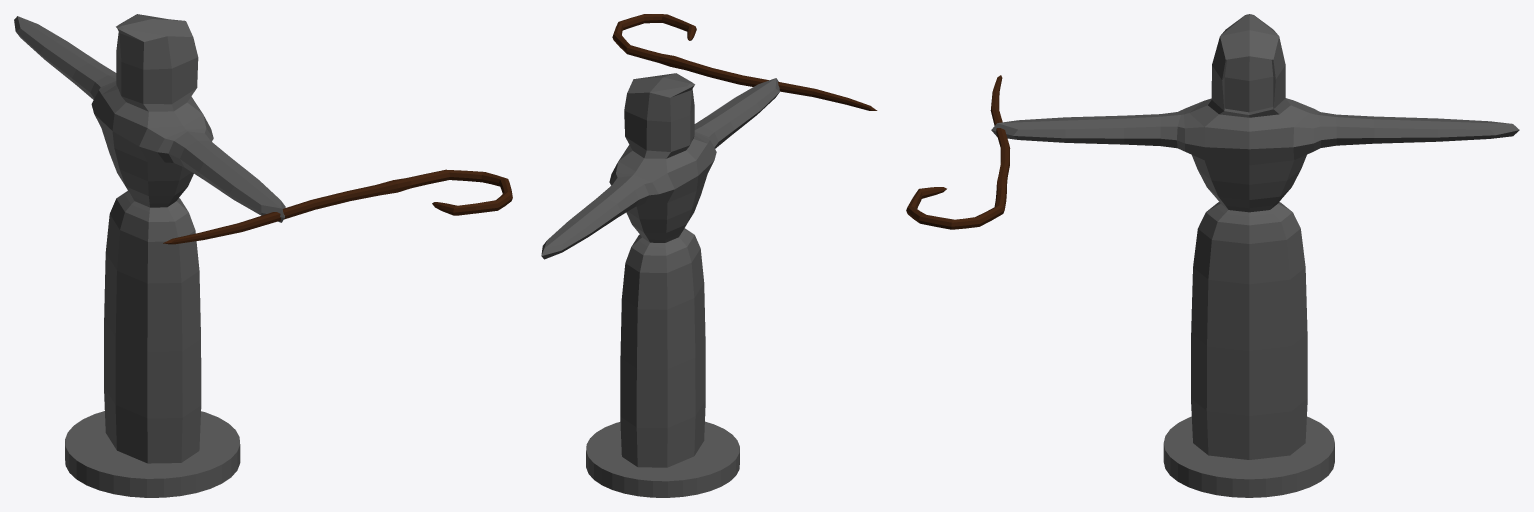
The model's file is beastmaster.fbx.
The picture shows the model from 3 angles, left to right: view 1: azimuth 30°, elevation 25°; view 2: azimuth 150°, elevation 25°; view 3: azimuth 270°, elevation 25°; orthographic projection. The views are drawn at different scales.
Visible parts, largest first — view 1: Statue, Staff; view 2: Statue, Staff; view 3: Statue, Staff.
Boxes of the visible parts, left/top/right/bottom form: Statue: left=14, top=14, right=285, bottom=497; Staff: left=163, top=169, right=512, bottom=244; Statue: left=541, top=73, right=779, bottom=497; Staff: left=612, top=14, right=877, bottom=110; Statue: left=991, top=14, right=1519, bottom=497; Staff: left=906, top=75, right=1010, bottom=229.
Size of the model in its own units: 2271 by 1763 by 1341.
